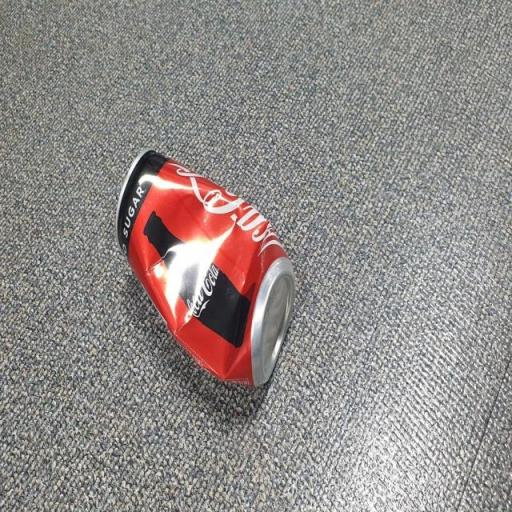metal: (108, 126, 304, 412)
